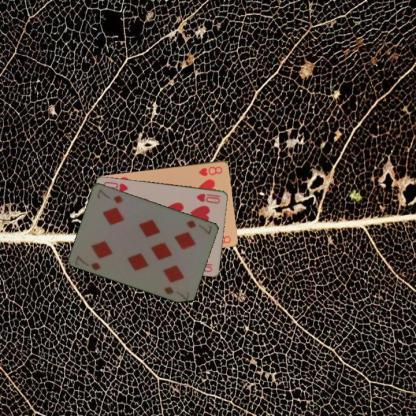10h: (194, 190, 222, 204)
7d: (184, 218, 214, 236), (72, 254, 102, 272)
8h: (196, 164, 224, 178)
